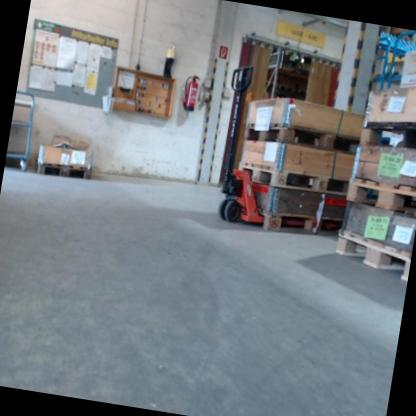pallet: (242, 117, 361, 159), (235, 159, 353, 200), (331, 226, 414, 284), (261, 204, 344, 243), (343, 175, 416, 219), (357, 109, 416, 156), (35, 158, 92, 183)
pallet_truck: (205, 56, 330, 233)
